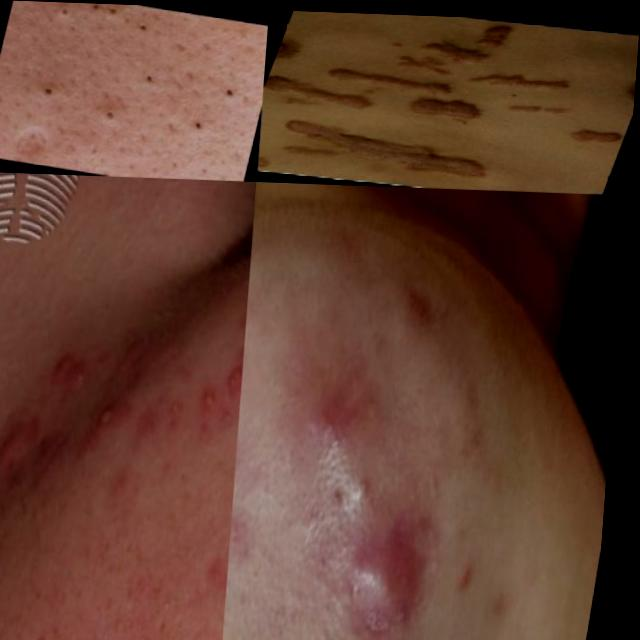6: (267, 112, 510, 177), (321, 62, 466, 97), (264, 73, 390, 110), (461, 64, 585, 93), (406, 33, 506, 64), (400, 90, 495, 118), (386, 47, 464, 75), (503, 95, 580, 115), (472, 17, 519, 48), (563, 120, 629, 142)
8: (42, 322, 104, 408), (0, 422, 30, 484)
9: (96, 389, 133, 431), (204, 375, 226, 410)
blackheads: (0, 114, 79, 167), (228, 346, 249, 394)
dark spot: (167, 101, 240, 148), (54, 2, 129, 31), (29, 71, 79, 106), (207, 67, 243, 109), (131, 63, 169, 95), (135, 5, 160, 37), (100, 103, 123, 122)
pustules: (329, 474, 466, 640), (283, 332, 395, 495)
